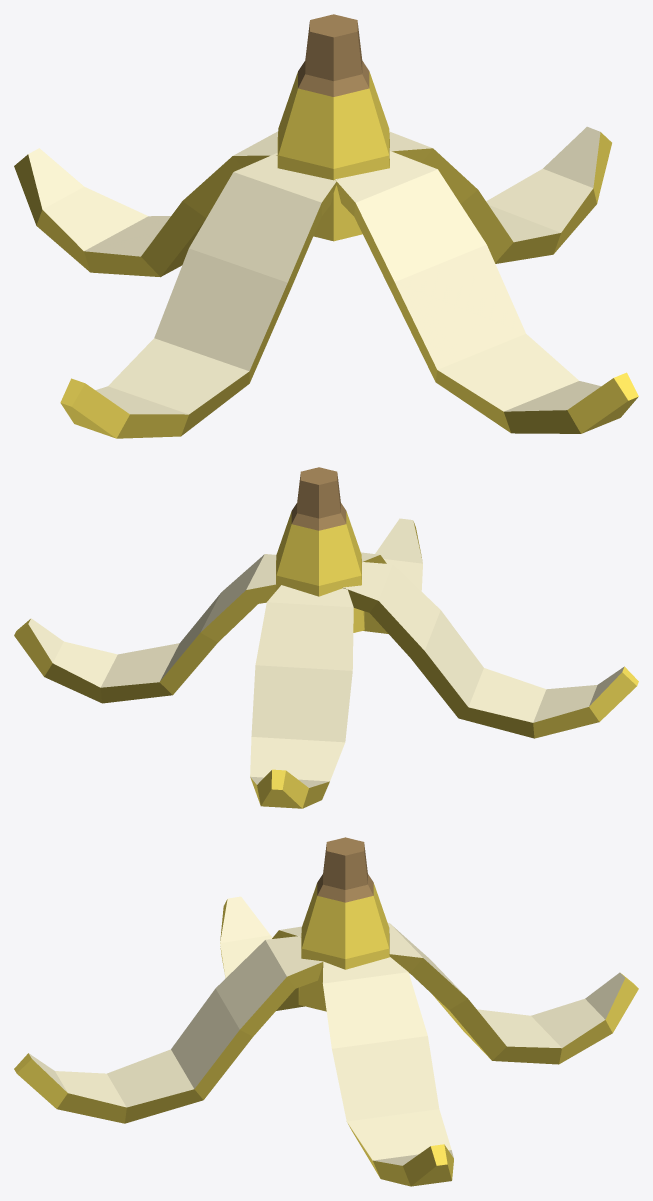
Rendered from banana_peel.glb.
3 views of the same model, one above another, from view 1: azimuth 30°, elevation 25°; view 2: azimuth 150°, elevation 25°; view 3: azimuth 270°, elevation 25° (orthographic). The views are drawn at different scales.
Visible parts, largest first — view 1: BananaPeel; view 2: BananaPeel; view 3: BananaPeel.
Part boxes in pixels (<box>): BananaPeel: <box>14,14,638,438</box>; BananaPeel: <box>14,467,638,808</box>; BananaPeel: <box>14,837,638,1186</box>.
Bounding box in the file's own units: 0.8588 × 0.367 × 0.8677.
